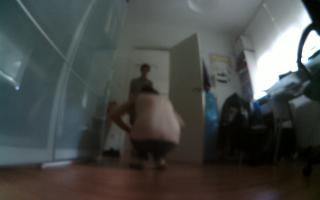person: (106, 83, 202, 173), (124, 63, 159, 122)
